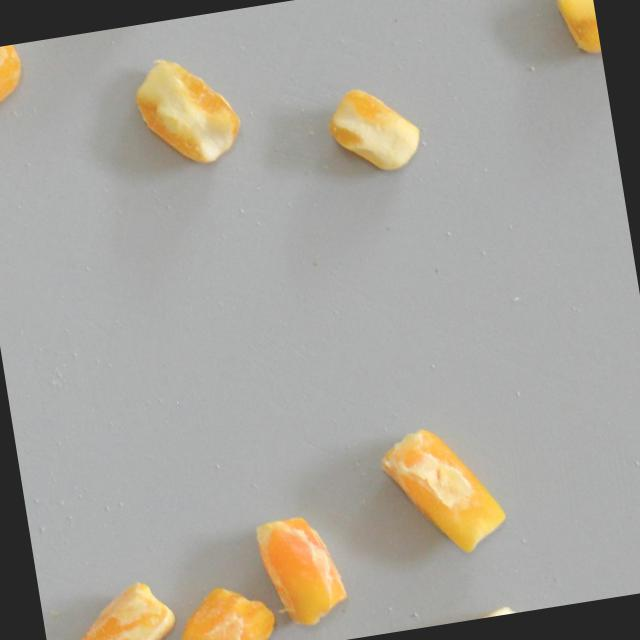pelicula: (373, 414, 514, 566), (127, 46, 248, 175), (253, 508, 353, 633), (322, 78, 426, 178), (50, 572, 178, 640), (172, 577, 282, 640), (555, 0, 602, 59), (0, 44, 29, 114)
